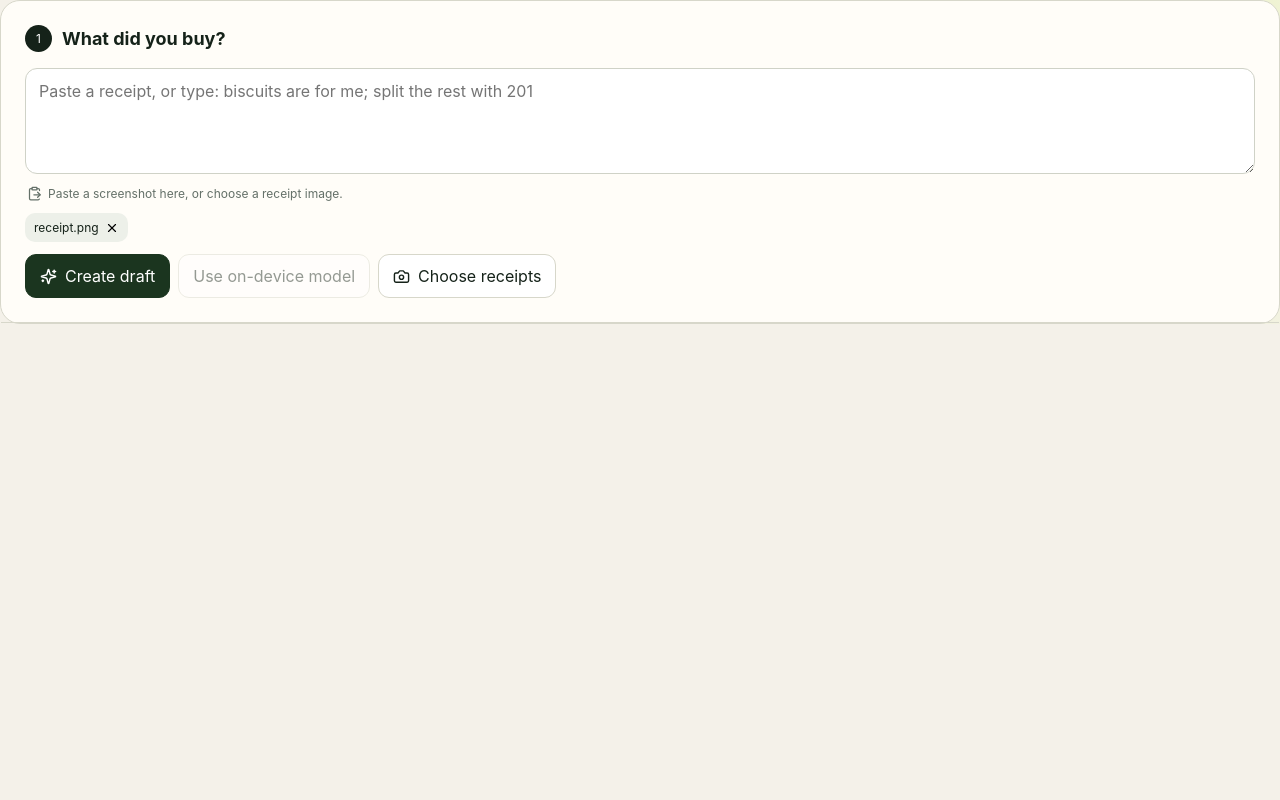
it: ExpenseEntry receipt input › corrects an implausible inferred year and asks the user to check it
Click the button "Create draft": (98, 276) [25,254,170,298]
(page scrolled)
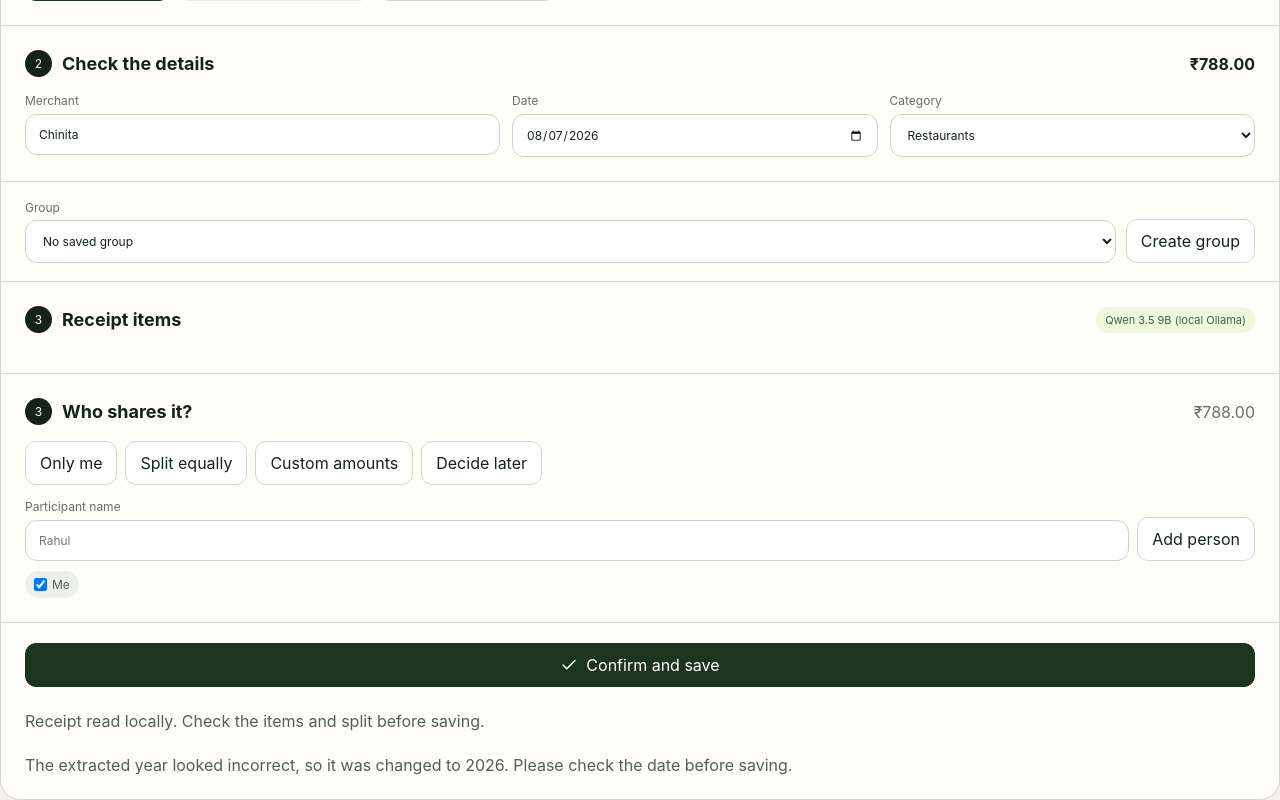
Now the date field labelled "Date" holds "2026-08-07", box [512,114,878,157]
Now the text "The extracted year looked incorrect, so it was changed to 2026. Please check the date before saving." is shown, box [25,755,792,775]
